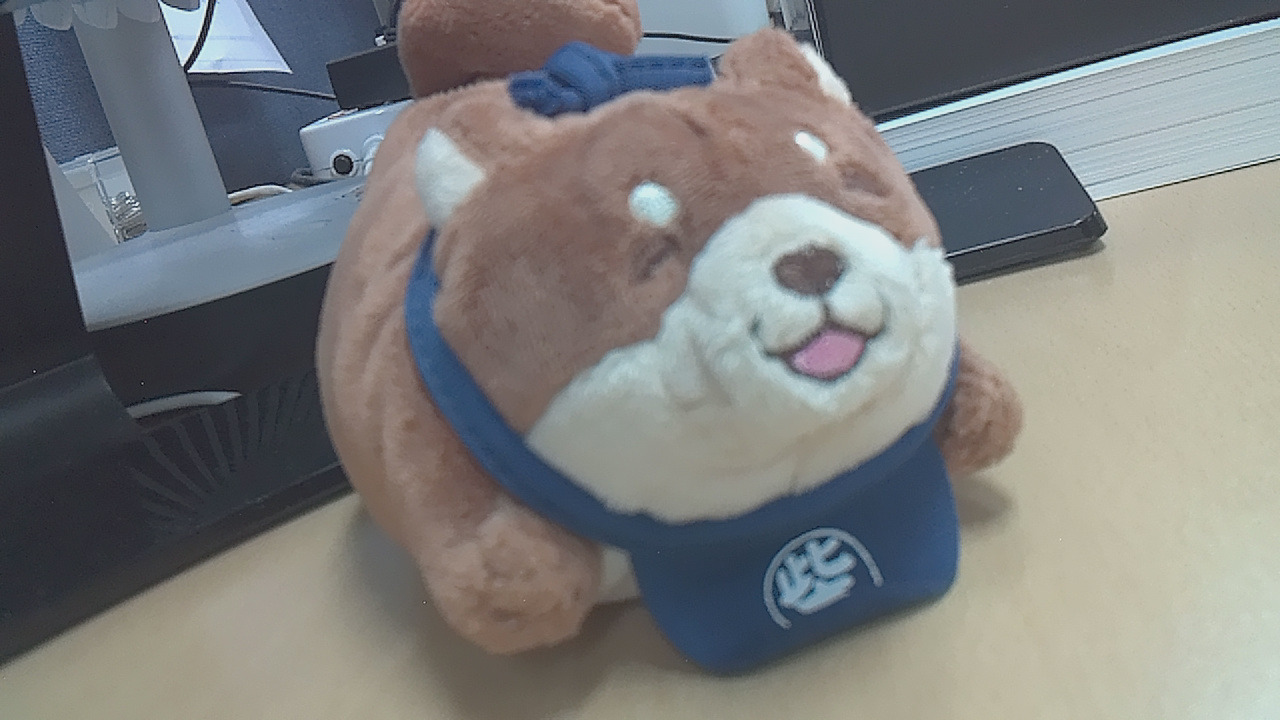cuteDog: (310, 58, 1008, 670)
